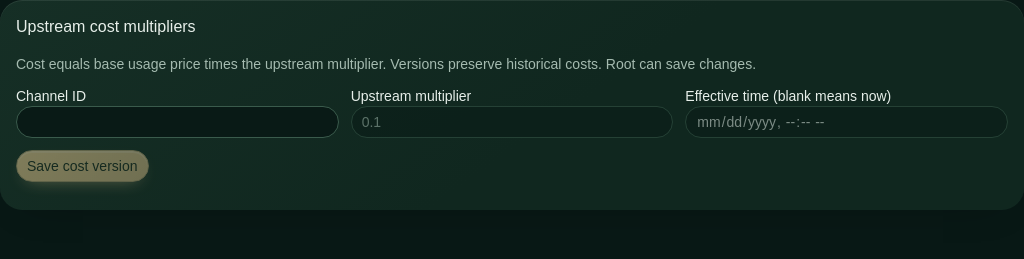
Channel cost version settings › allows an ordinary administrator to read but disables editing and saving
Type "8" into the number field labelled "Channel ID".
click(177, 122); type("8")  # box [16,106,339,138]
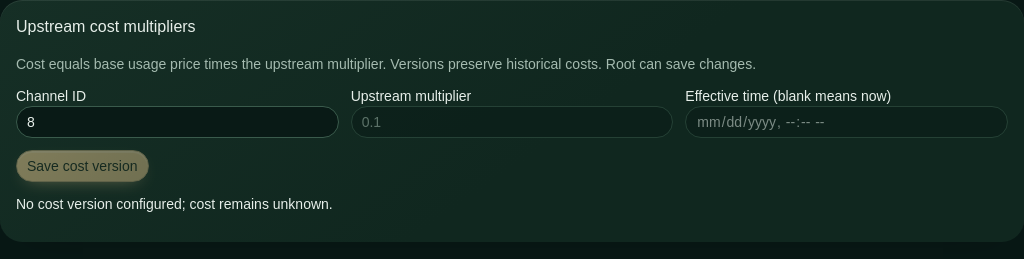
Expected: the field labelled "Upstream multiplier" is disabled, [351,106,673,138]
Expected: the text "No cost version configured; cost remains unknown." is shown, [16,196,333,212]
